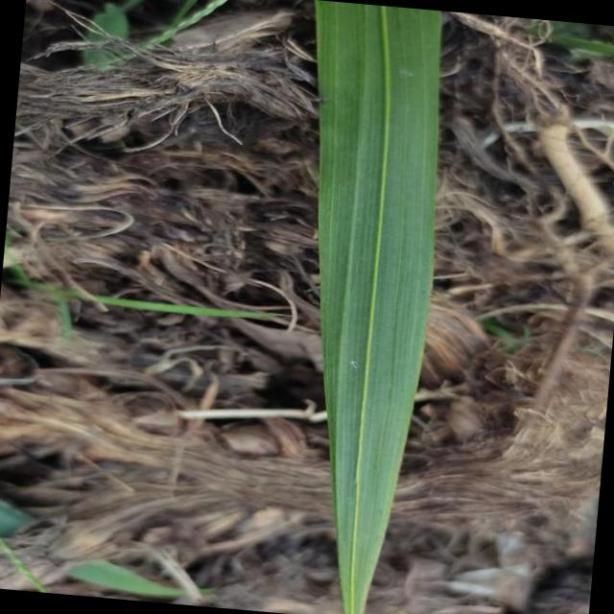Healthy: (312, 3, 439, 614)
